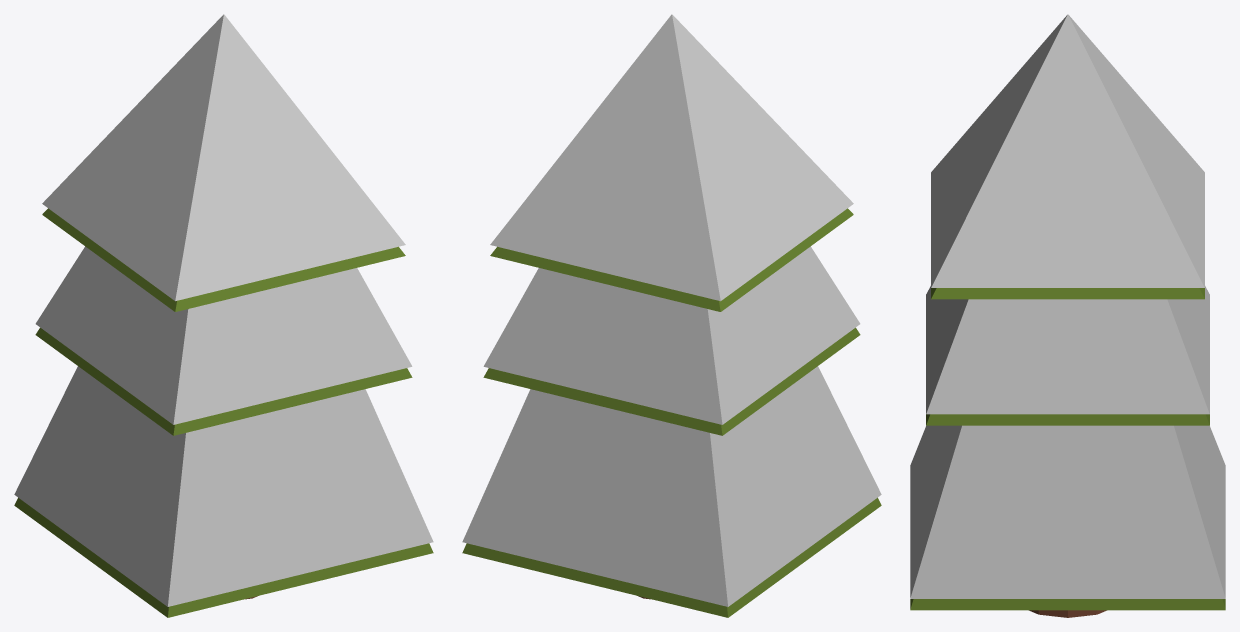
Rendered from Tree_18_winter_vc.fbx.
3 renders of one model, left to right at view 1: azimuth 30°, elevation 25°; view 2: azimuth 150°, elevation 25°; view 3: azimuth 270°, elevation 25°, orthographic. The views are drawn at different scales.
Visible parts, largest first — view 1: Tree_18_winter_vc; view 2: Tree_18_winter_vc; view 3: Tree_18_winter_vc.
Boxes of the visible parts, x1,y1,x2,y2 form: Tree_18_winter_vc: [14, 14, 433, 617]; Tree_18_winter_vc: [462, 14, 881, 617]; Tree_18_winter_vc: [910, 14, 1225, 617].
Bounding box in the file's own units: 2.5 × 5.05 × 2.5.
